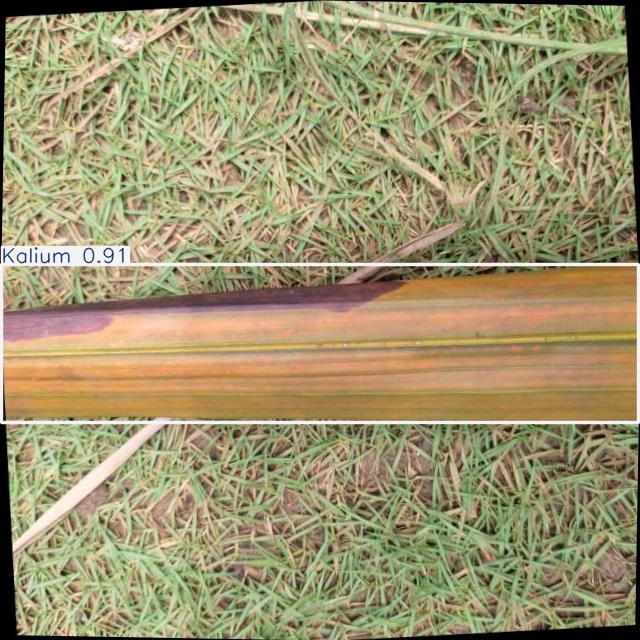Kalium: (2, 265, 639, 423)
